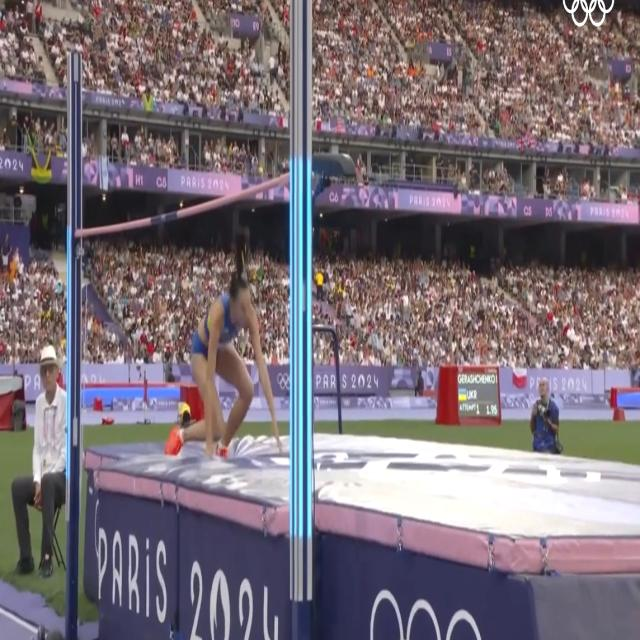land: (164, 278, 281, 459)
